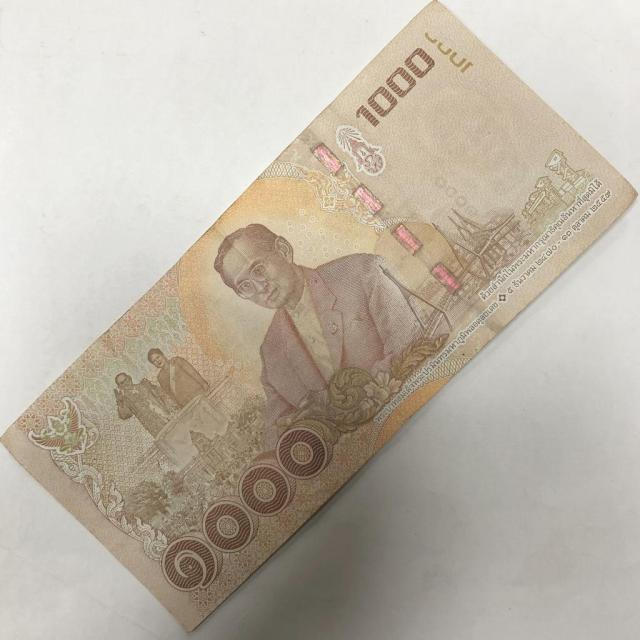THAI1000: (0, 2, 636, 629)
